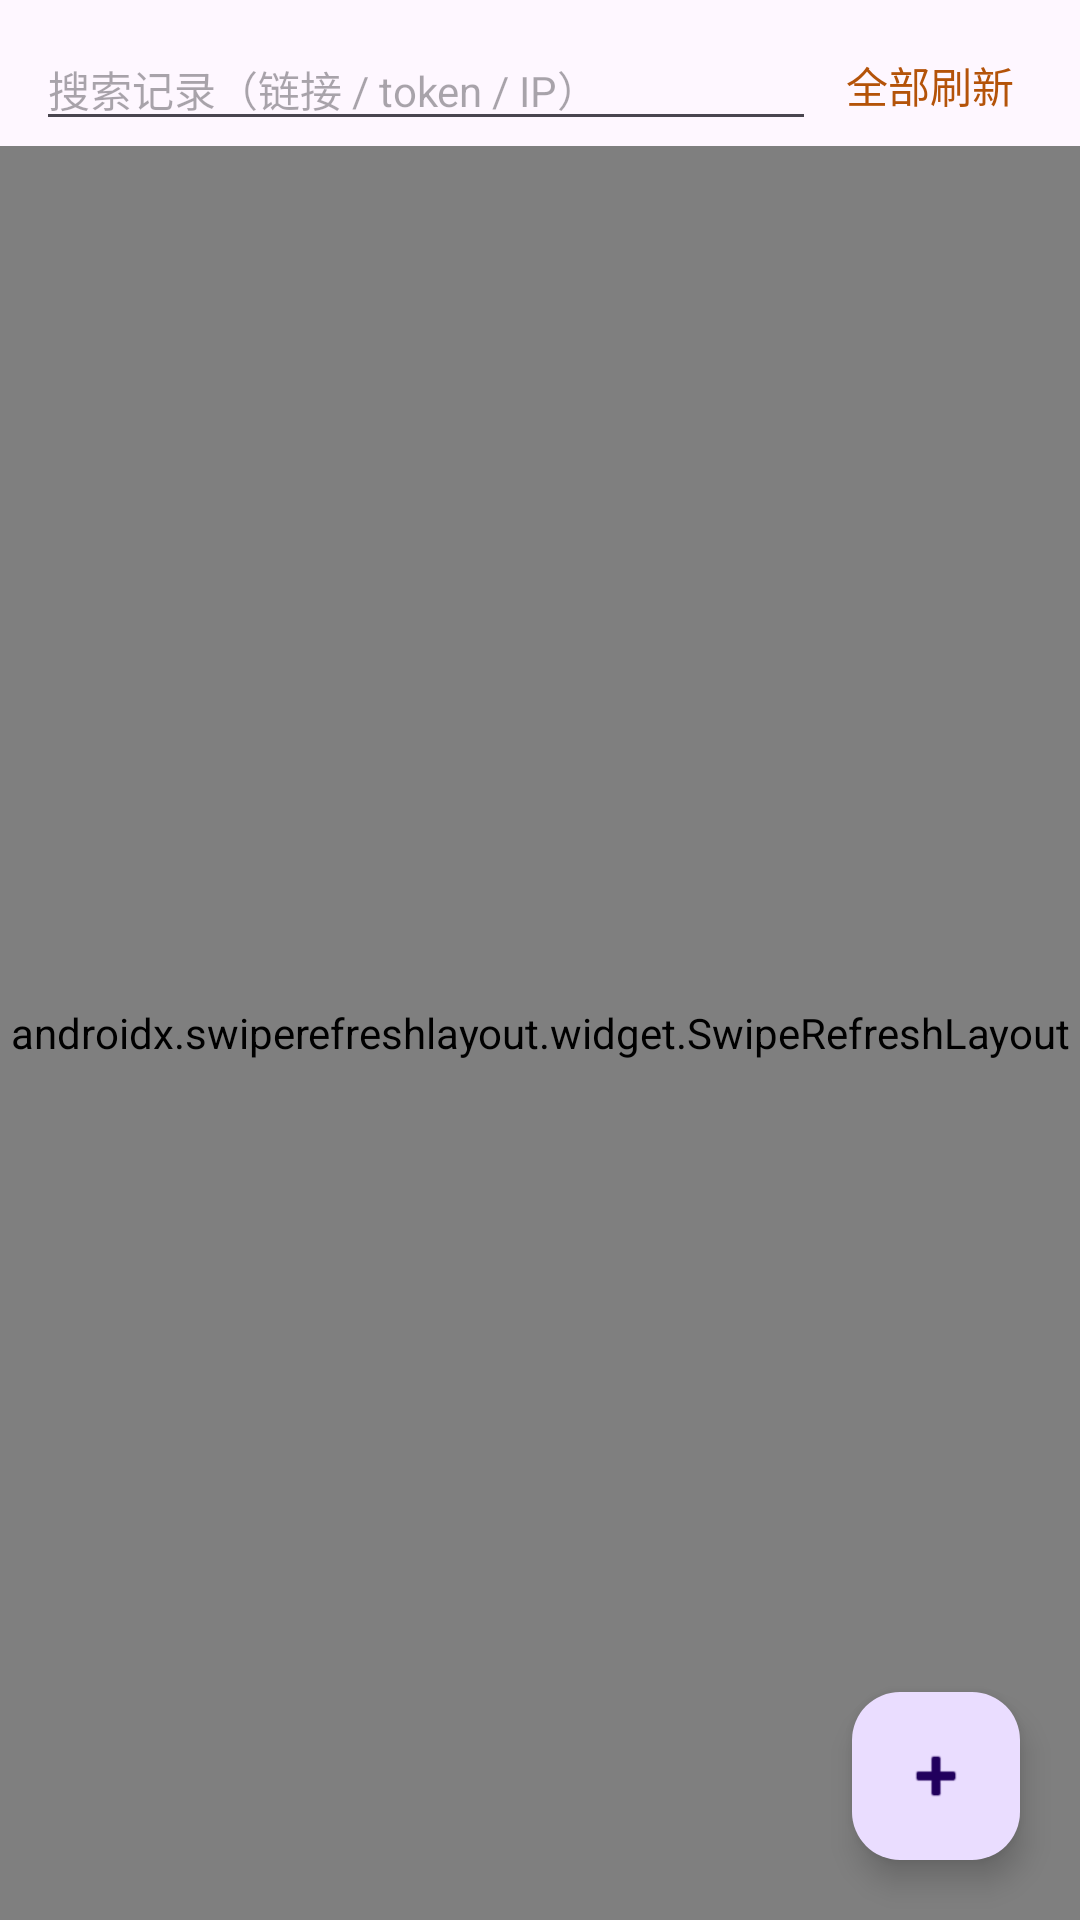

Screen size 1080 x 1920. Icon name, then its center in pixels as [x,y]:
新建: [936,1776]
